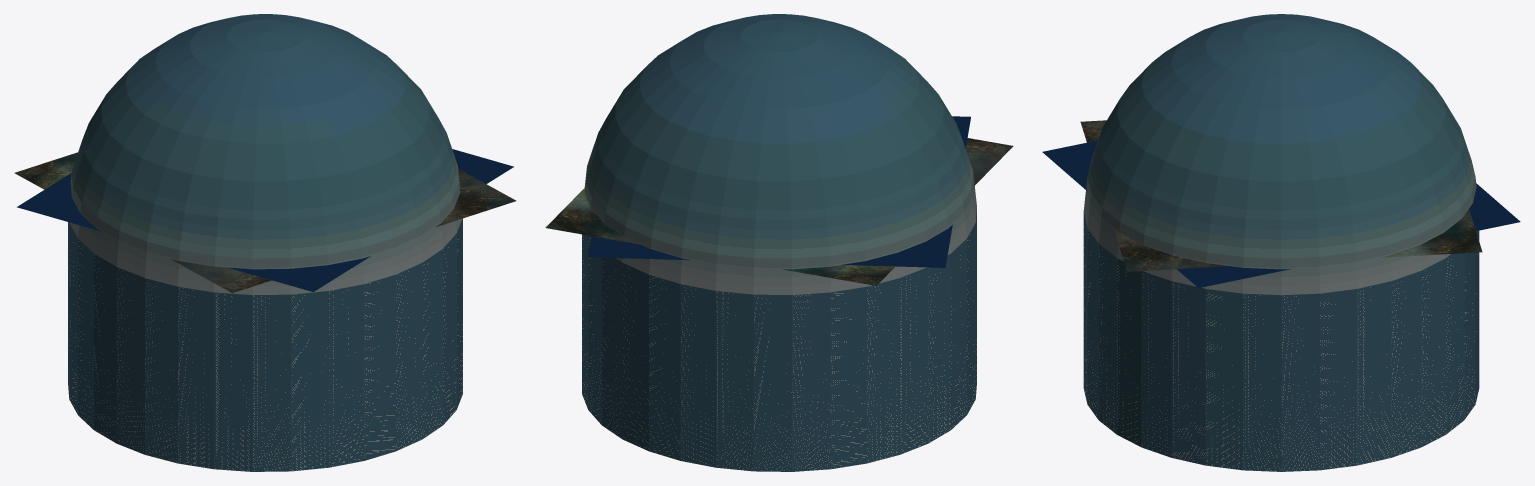
The model's file is FX_UniqueShip_FlyingDutchman.fbx.
The picture shows the model from 3 angles, left to right: view 1: azimuth 30°, elevation 25°; view 2: azimuth 150°, elevation 25°; view 3: azimuth 270°, elevation 25°; orthographic projection.
Visible parts, largest first — view 1: Sky01, WaterPlane_Wave, WaterPlane; view 2: Sky01, WaterPlane, WaterPlane_Wave; view 3: Sky01, WaterPlane, WaterPlane_Wave.
Part boxes in pixels (x1,y1,x2,y2): Sky01: (68, 14, 462, 471); WaterPlane_Wave: (17, 149, 513, 291); WaterPlane: (14, 152, 516, 292); Sky01: (582, 14, 976, 471); WaterPlane: (545, 138, 1013, 285); WaterPlane_Wave: (588, 116, 970, 267); Sky01: (1083, 14, 1479, 471); WaterPlane: (1080, 120, 1482, 271); WaterPlane_Wave: (1042, 140, 1520, 287).
Size of the model in its own units: 134 by 110 by 134.
Materials: 5 (5 with a texture image).
